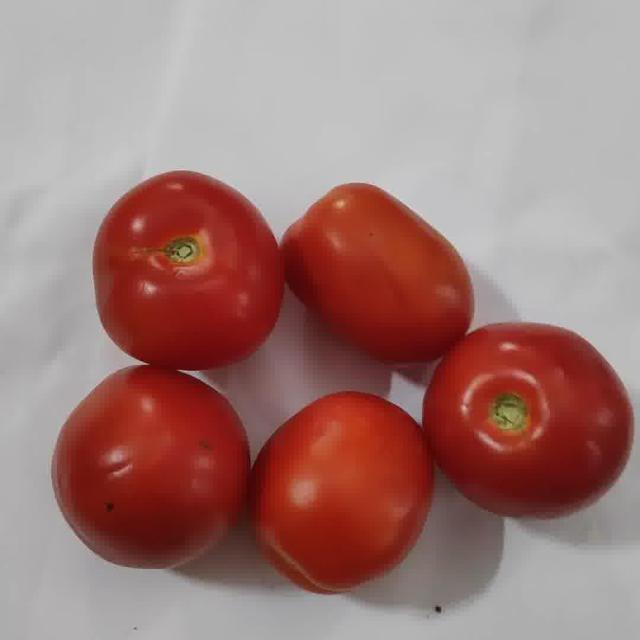Tomato: (423, 324, 633, 517), (52, 366, 249, 568), (93, 171, 284, 370), (251, 392, 432, 593), (281, 184, 473, 363)
